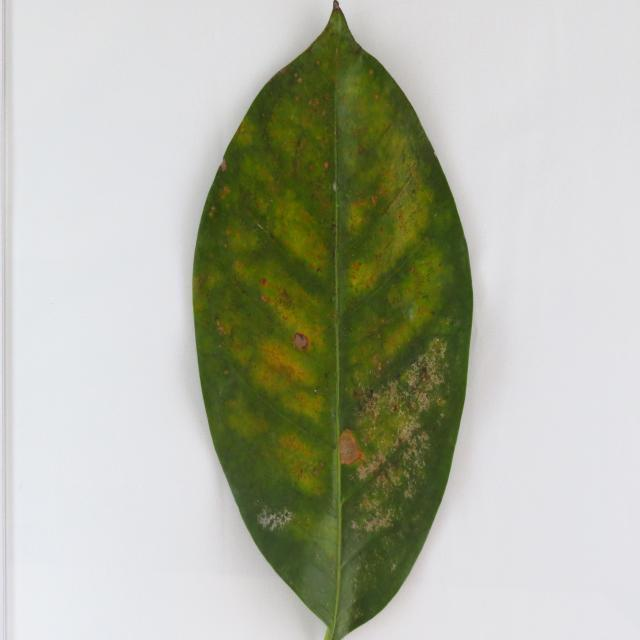DeficienciaNutricional-Magnesio: (192, 3, 472, 638)
